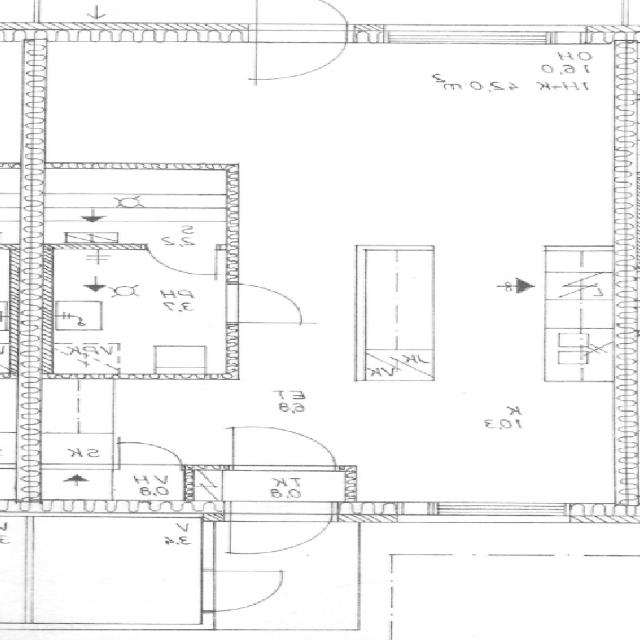door: (231, 500, 332, 570), (234, 414, 337, 469), (258, 23, 347, 85), (258, 0, 347, 41), (203, 571, 295, 610), (227, 284, 319, 322), (149, 244, 217, 283), (120, 434, 182, 469)
